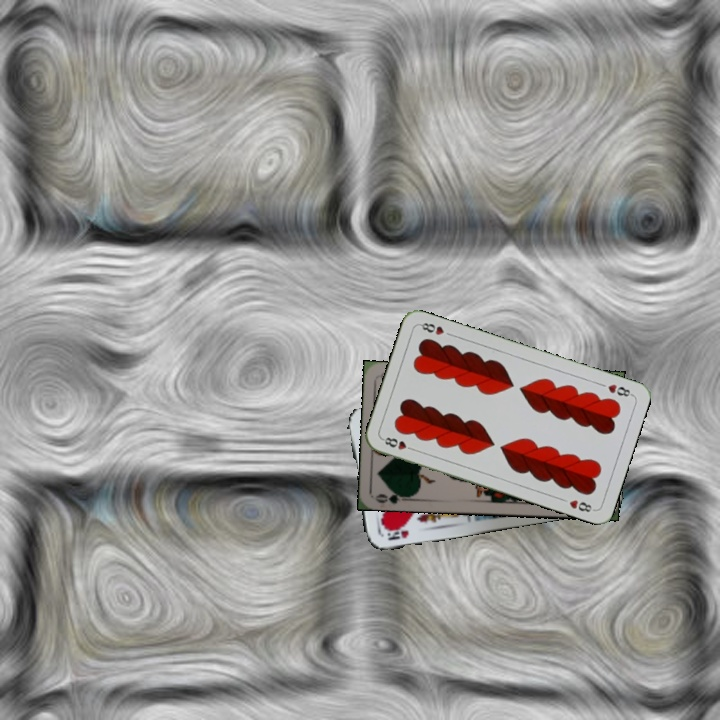GO: (373, 486, 414, 506)
H8: (379, 433, 418, 453), (604, 380, 635, 399)
HK: (380, 522, 411, 543)
